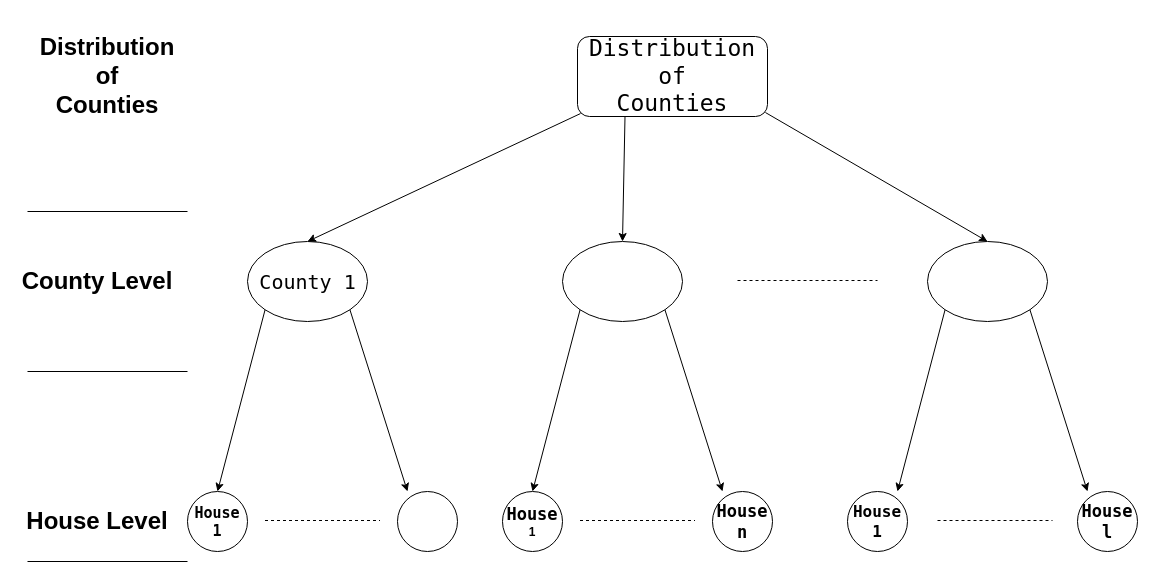
This 1155x580 diagram has some shape labels left out. Each missing label, with the box of its shape:
County 2: (562, 240, 682, 322)
County 5: (926, 240, 1048, 322)
House m: (396, 490, 458, 552)
